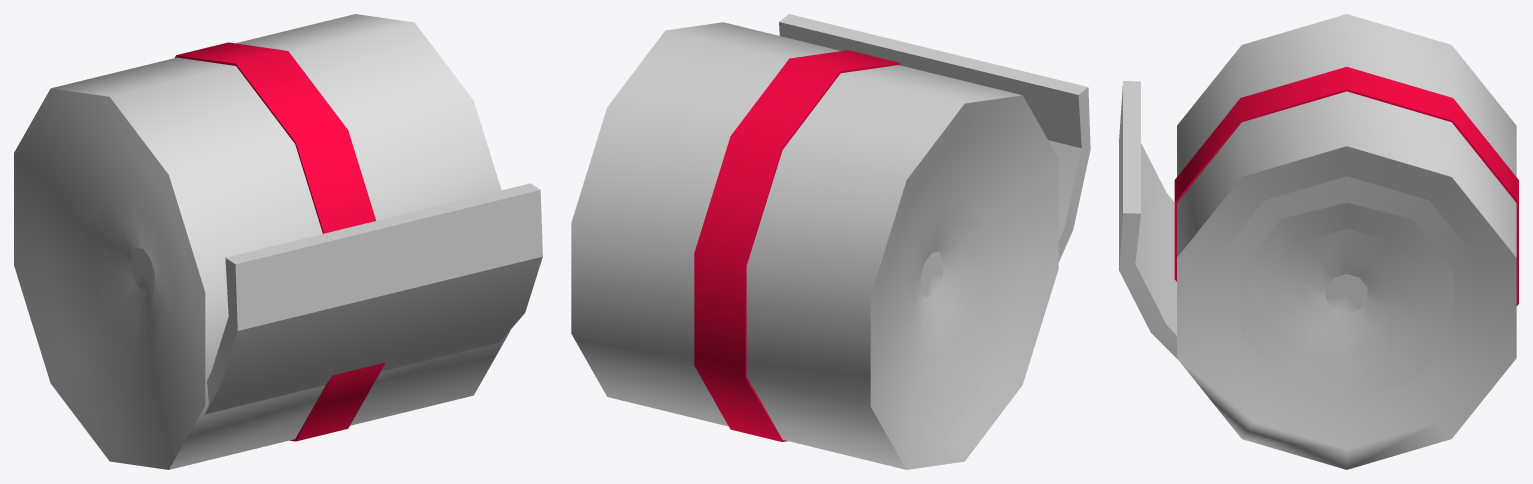
File: item-hal-bandage.glb
3 views of the same model, side by side, from view 1: azimuth 30°, elevation 25°; view 2: azimuth 150°, elevation 25°; view 3: azimuth 270°, elevation 25° (orthographic). The views are drawn at different scales.
Bounding box in the file's own units: 0.0691 × 0.0799 × 0.0882.
